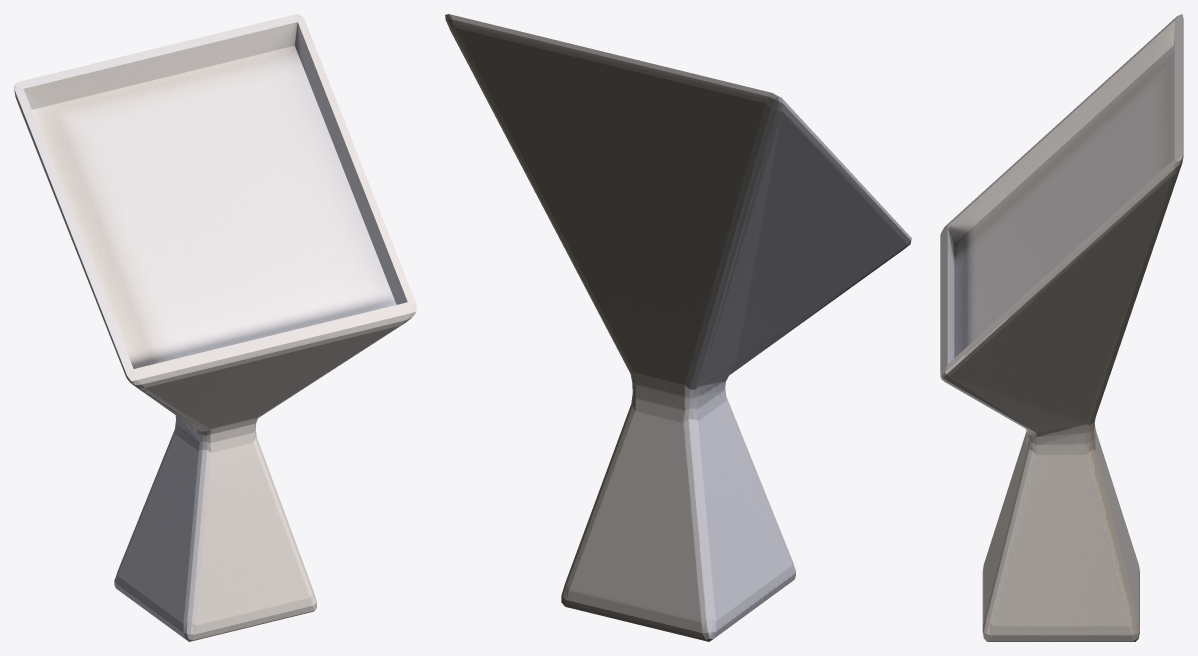
Rendered from pedestal.dae.
3 views of the same model, side by side, from view 1: azimuth 30°, elevation 25°; view 2: azimuth 150°, elevation 25°; view 3: azimuth 270°, elevation 25° (orthographic). The views are drawn at different scales.
Parts seen in each view (by area): view 1: Cube; view 2: Cube; view 3: Cube.
Part boxes in pixels (x1,y1,x2,y2): Cube: [14, 14, 416, 641]; Cube: [445, 14, 911, 641]; Cube: [940, 14, 1183, 641].
Bounding box in the file's own units: 0.8846 × 0.6209 × 1.48.
1 material, 1 textured.
